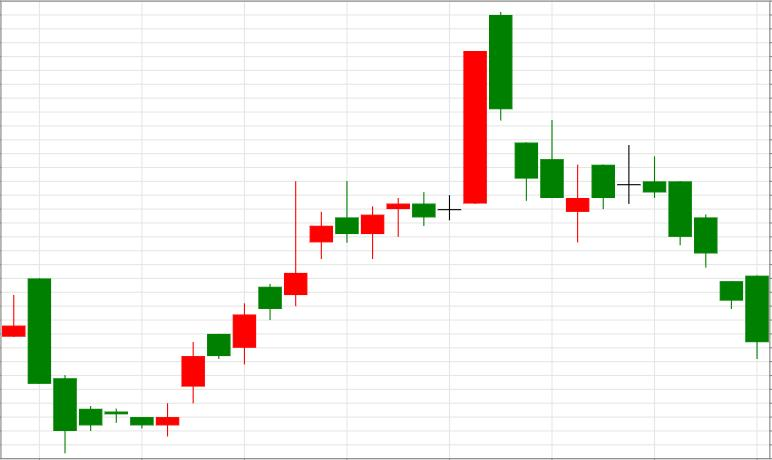shooting_star_fall: (156, 182, 307, 437)
